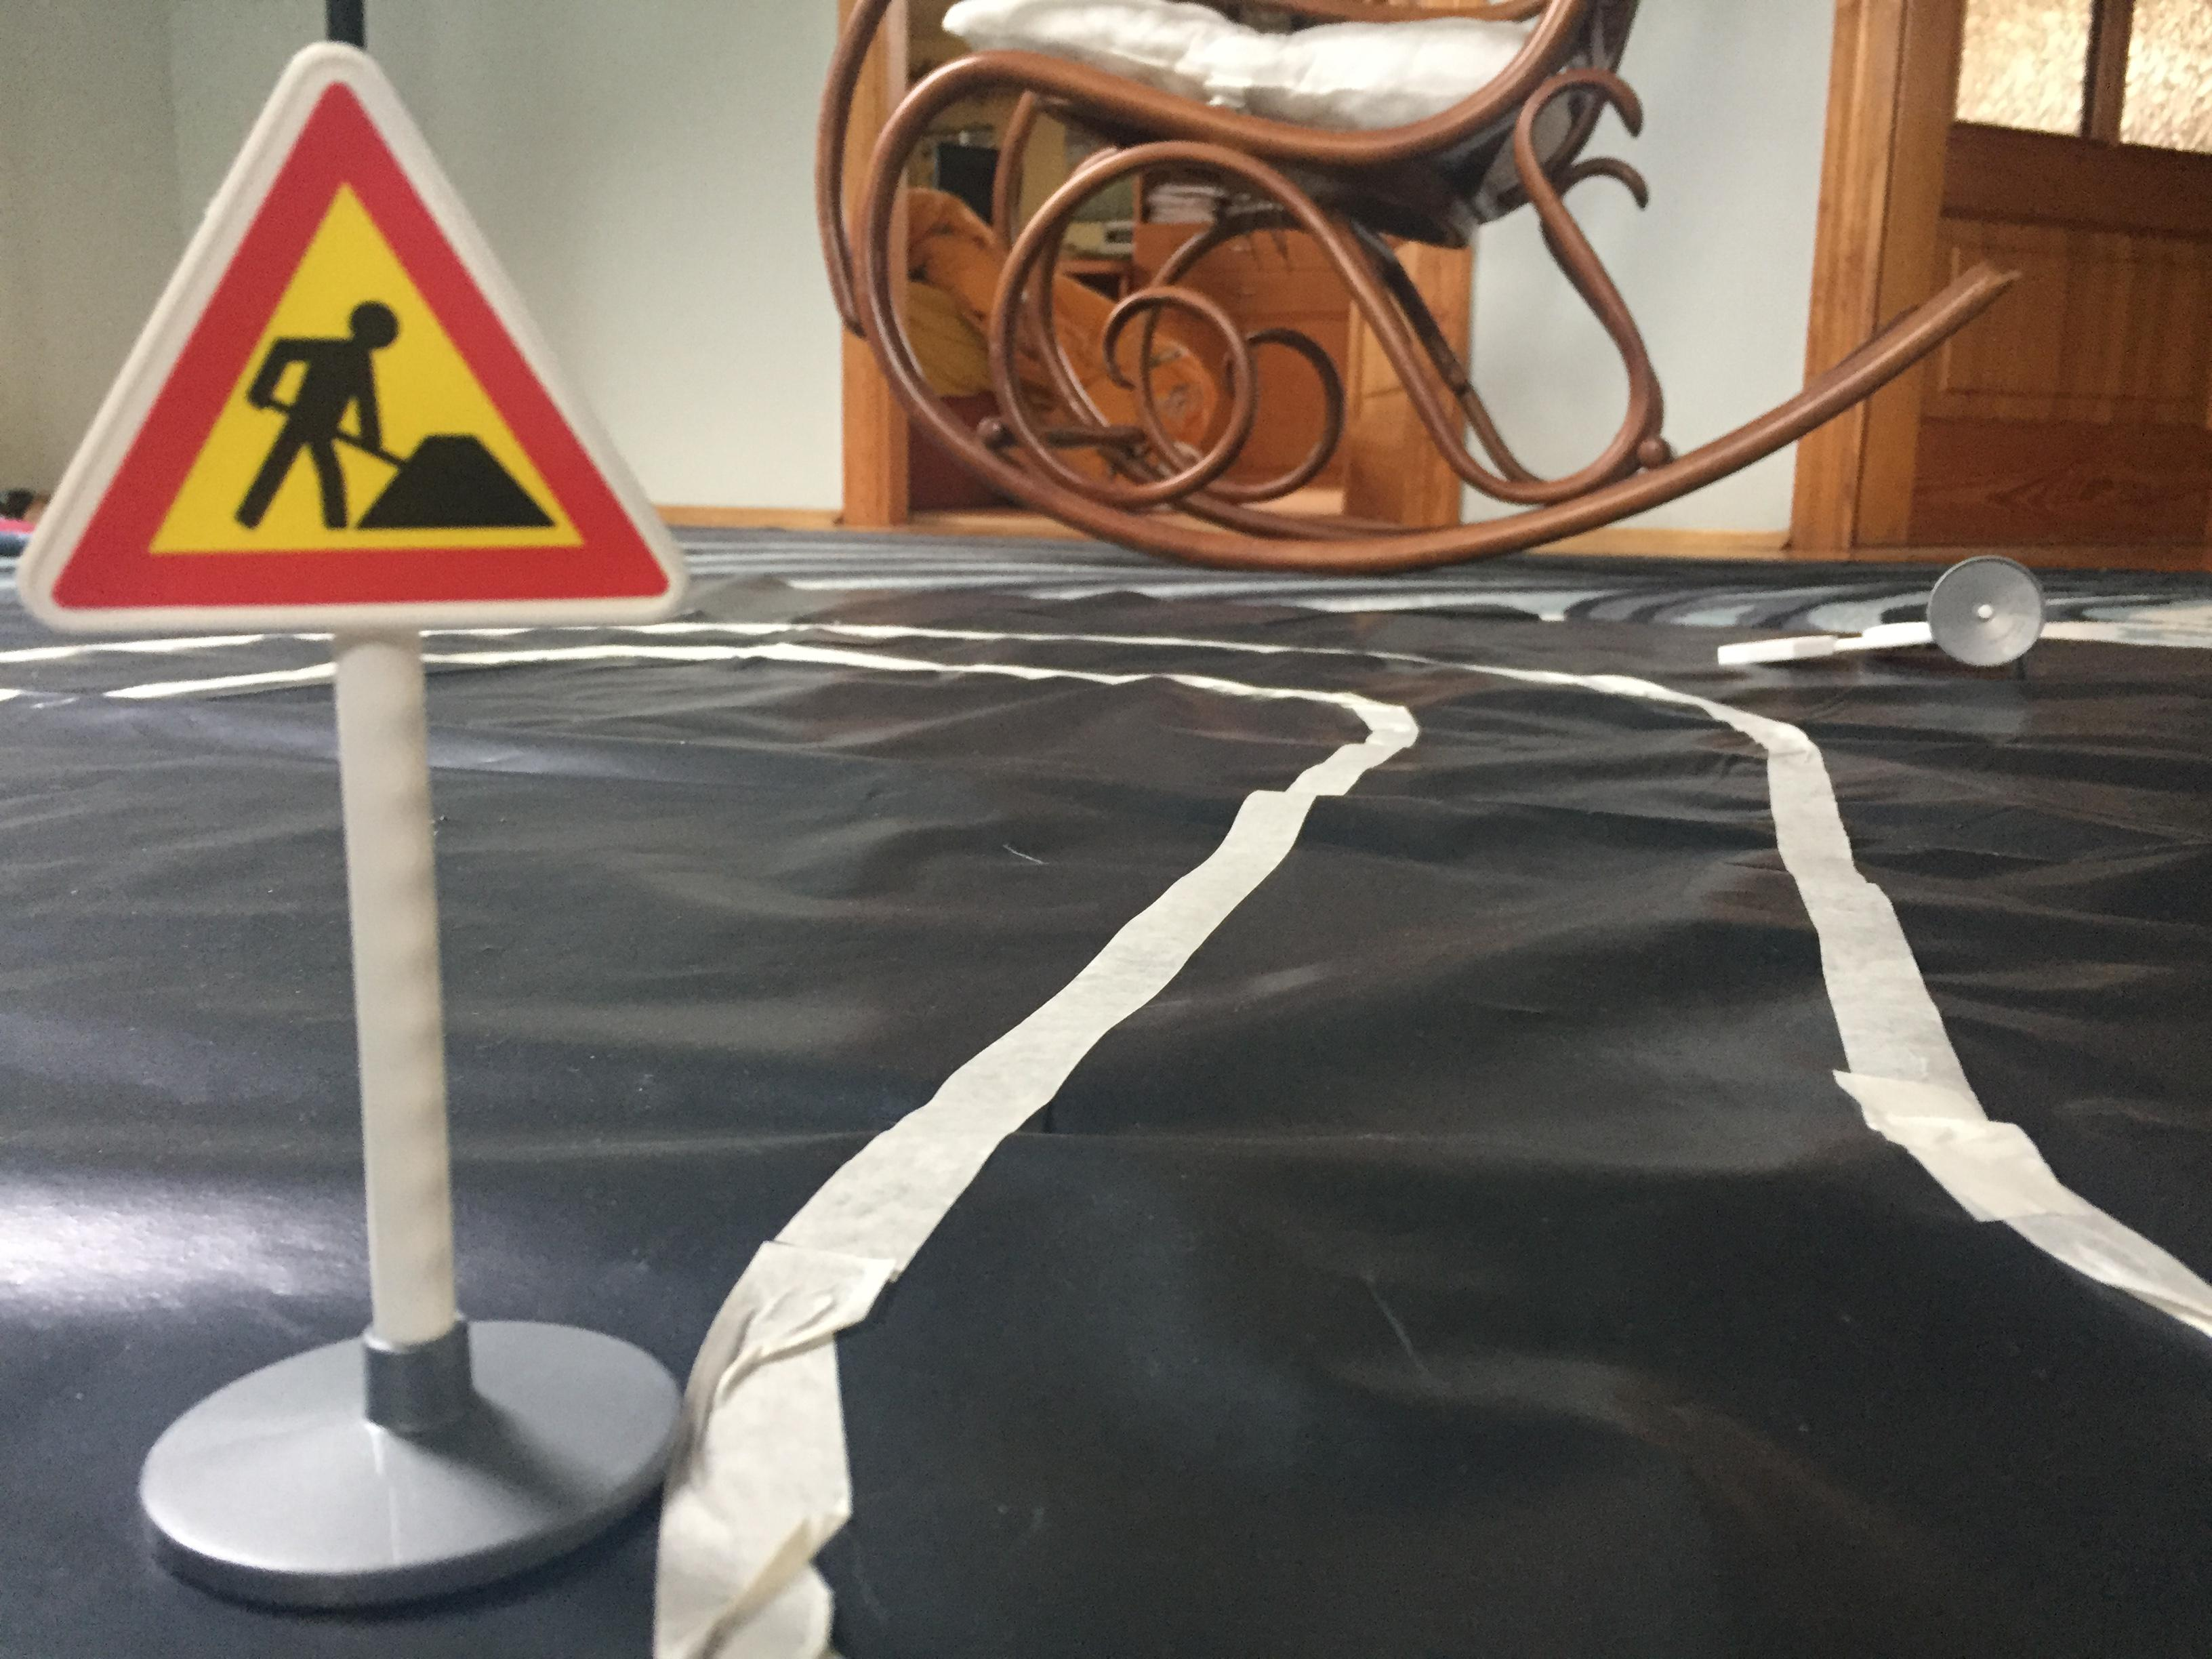work: (7, 35, 704, 640)
